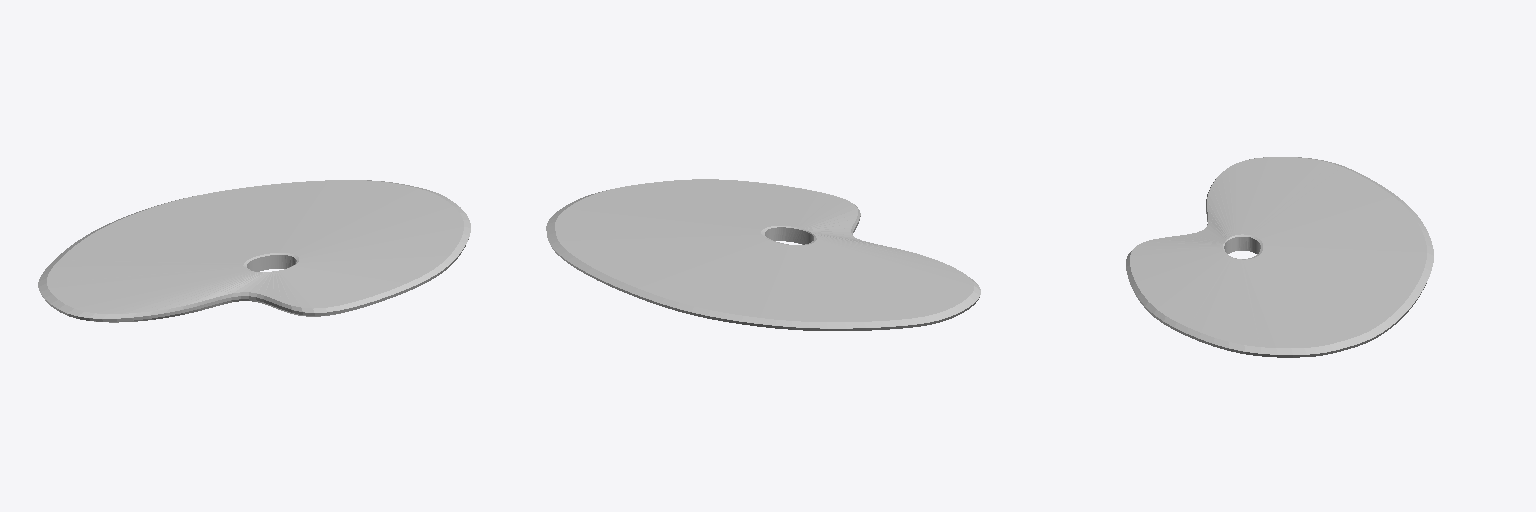
Rendered from uploads_files_2637005_Palette.obj.
3 views of the same model, side by side, from view 1: azimuth 30°, elevation 25°; view 2: azimuth 150°, elevation 25°; view 3: azimuth 270°, elevation 25° (orthographic).
Parts seen in each view (by area): view 1: PaintPallete ArtSupplies_highres; view 2: PaintPallete ArtSupplies_highres; view 3: PaintPallete ArtSupplies_highres.
Part boxes in pixels (x1,y1,x2,y2): PaintPallete ArtSupplies_highres: (38, 180, 470, 322); PaintPallete ArtSupplies_highres: (546, 179, 980, 330); PaintPallete ArtSupplies_highres: (1126, 157, 1433, 357).
Size of the model in its own units: 38.33 by 1.38 by 25.13.